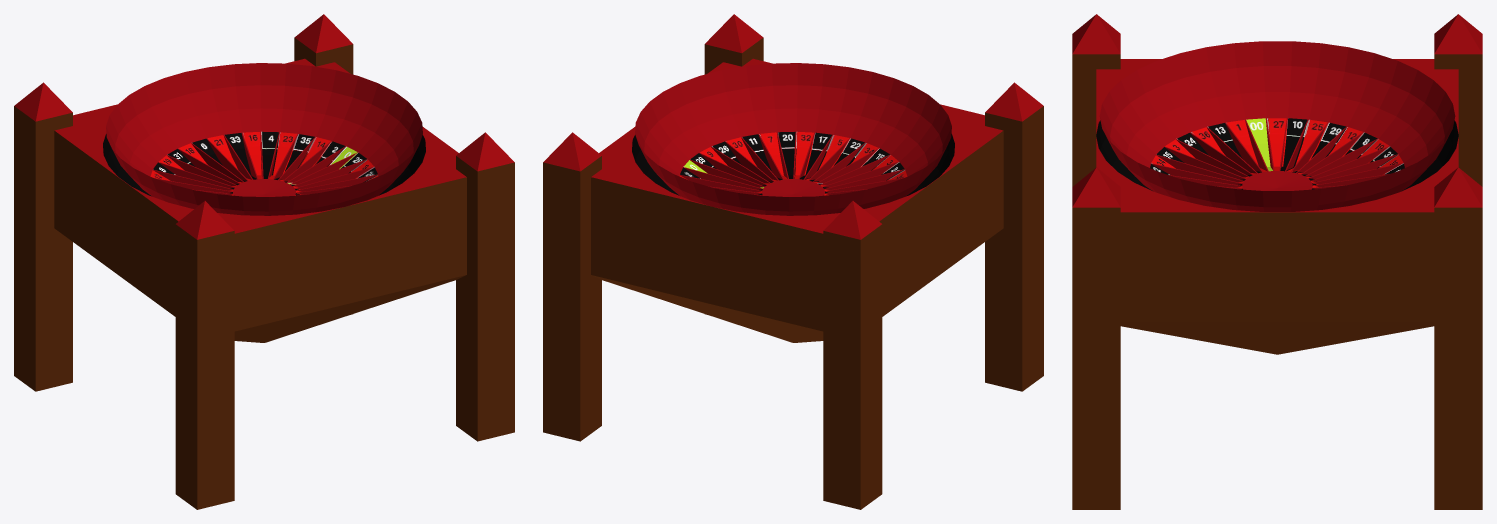
The model's file is Final fucking table2.glb.
3 renders of one model, left to right at view 1: azimuth 30°, elevation 25°; view 2: azimuth 150°, elevation 25°; view 3: azimuth 270°, elevation 25°, orthographic. The views are drawn at different scales.
Visible parts, largest first — view 1: Cube, Sphere; view 2: Cube, Sphere; view 3: Cube, Sphere.
Part boxes in pixels (box(x1,y1,x2,y2)): Cube: box(14, 14, 514, 509); Sphere: box(106, 63, 422, 215); Cube: box(543, 14, 1043, 509); Sphere: box(635, 63, 951, 215); Cube: box(1072, 14, 1482, 509); Sphere: box(1099, 41, 1455, 211).
Bounding box in the file's own units: 3.4 × 3.04 × 3.39.
Materials: 5 (1 with a texture image).
